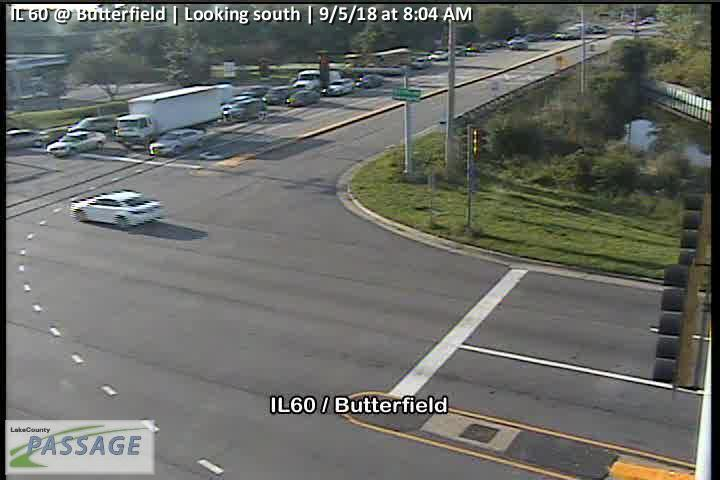Sedan: (70, 190, 164, 229), (45, 130, 107, 157), (148, 129, 206, 157), (227, 97, 268, 123), (69, 116, 115, 132), (287, 89, 319, 107), (263, 86, 292, 104), (328, 78, 354, 95)
Truck: (114, 86, 220, 149), (291, 70, 340, 94)
